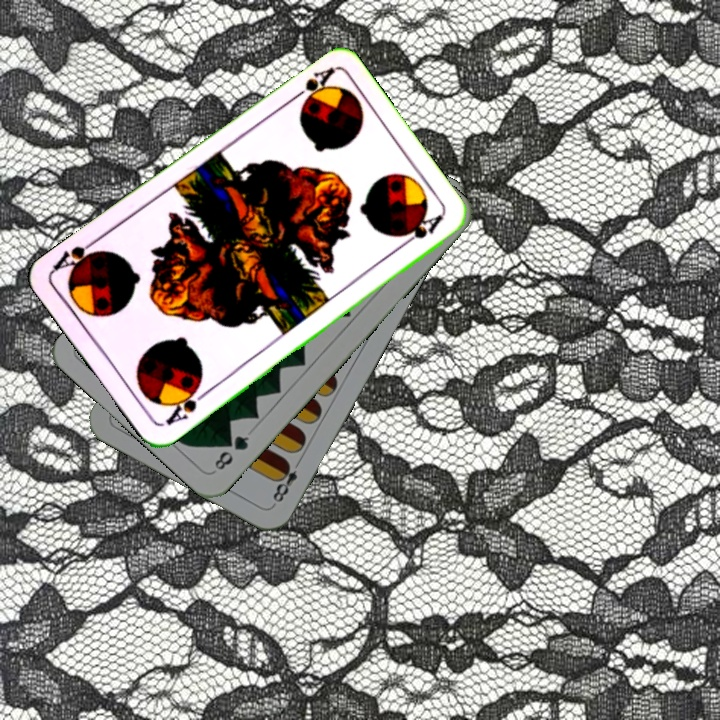E8: (268, 454, 305, 508)
G8: (210, 431, 252, 473)
SA: (285, 63, 337, 110), (161, 381, 211, 429)
